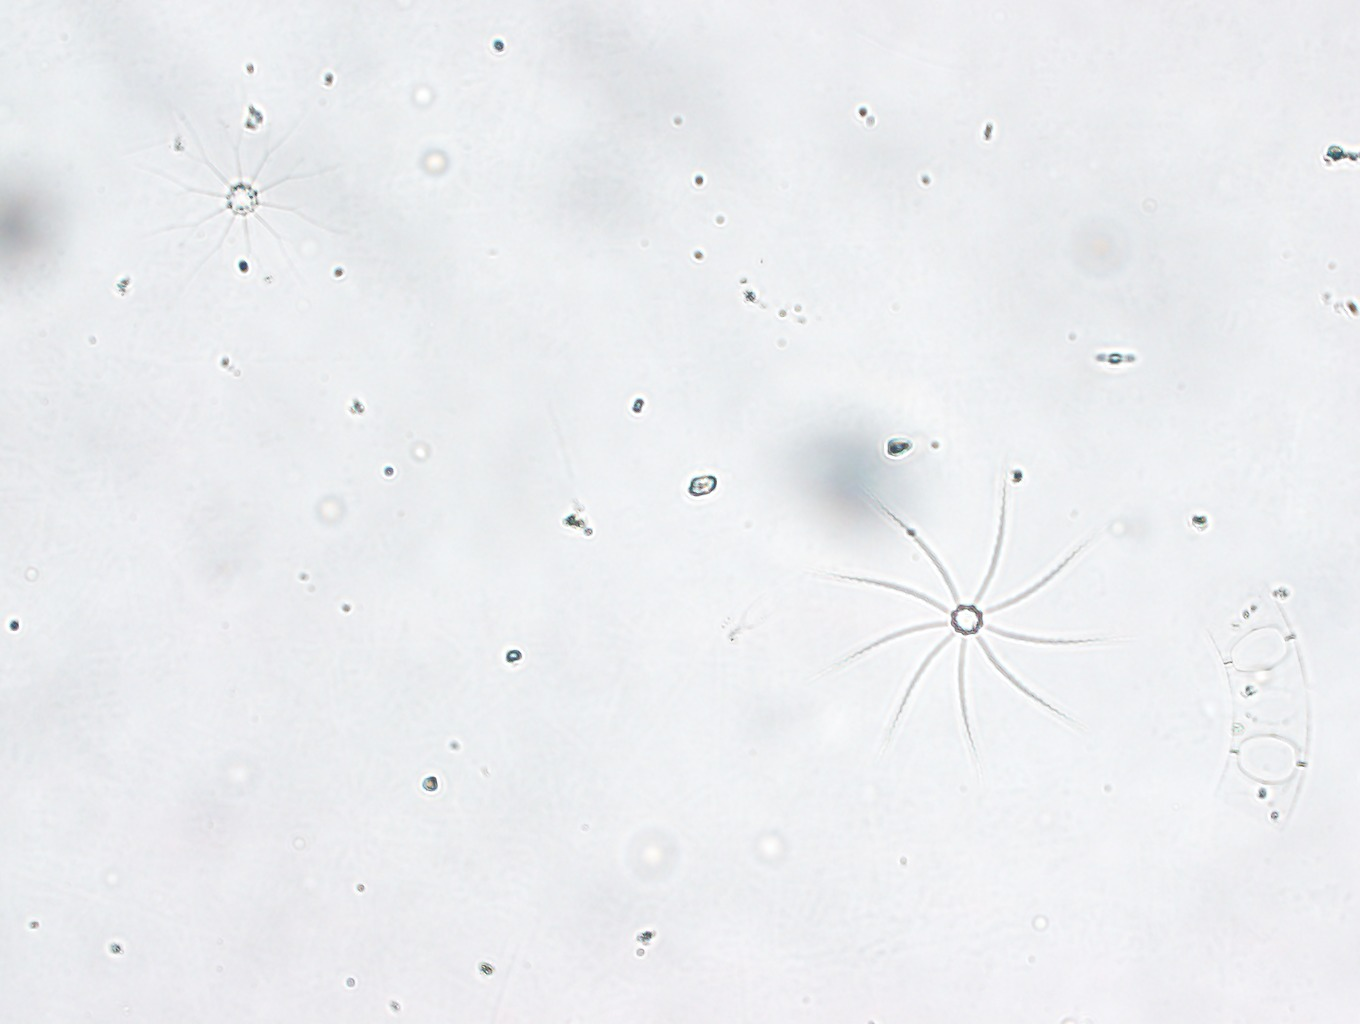bacteriastrum: (814, 459, 1114, 759), (135, 87, 358, 316)
eucampia: (1185, 581, 1323, 836)
